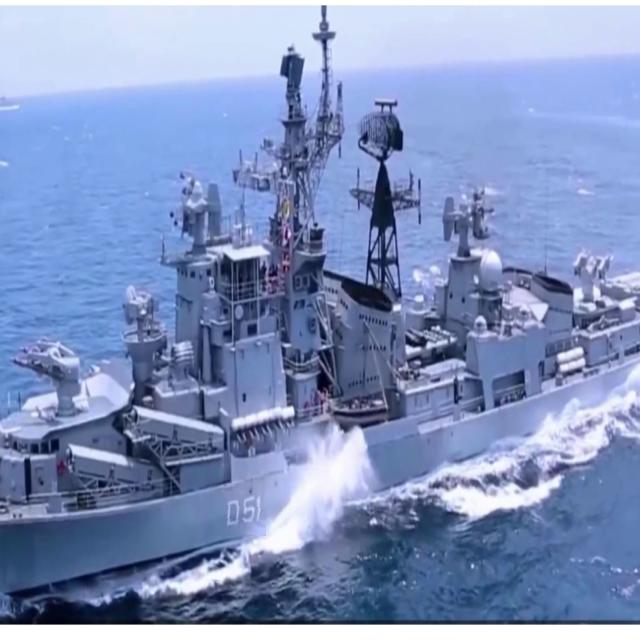OCR: (216, 484, 266, 536)
